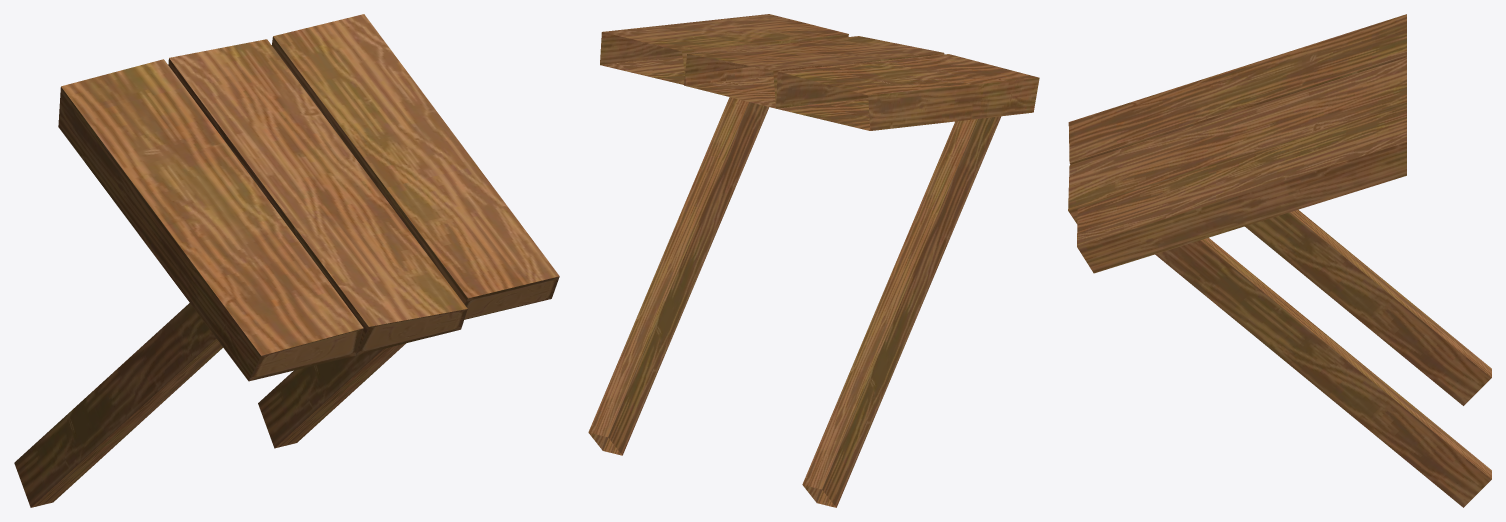
Rendered from window_roof_thin.glb.
3 renders of one model, left to right at view 1: azimuth 30°, elevation 25°; view 2: azimuth 150°, elevation 25°; view 3: azimuth 270°, elevation 25°, orthographic. The views are drawn at different scales.
Size of the model in its own units: 0.8518 by 1.18 by 1.18.
Materials: 1 (1 with a texture image).
